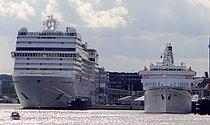Ship: (14, 14, 96, 110), (141, 39, 198, 117)
